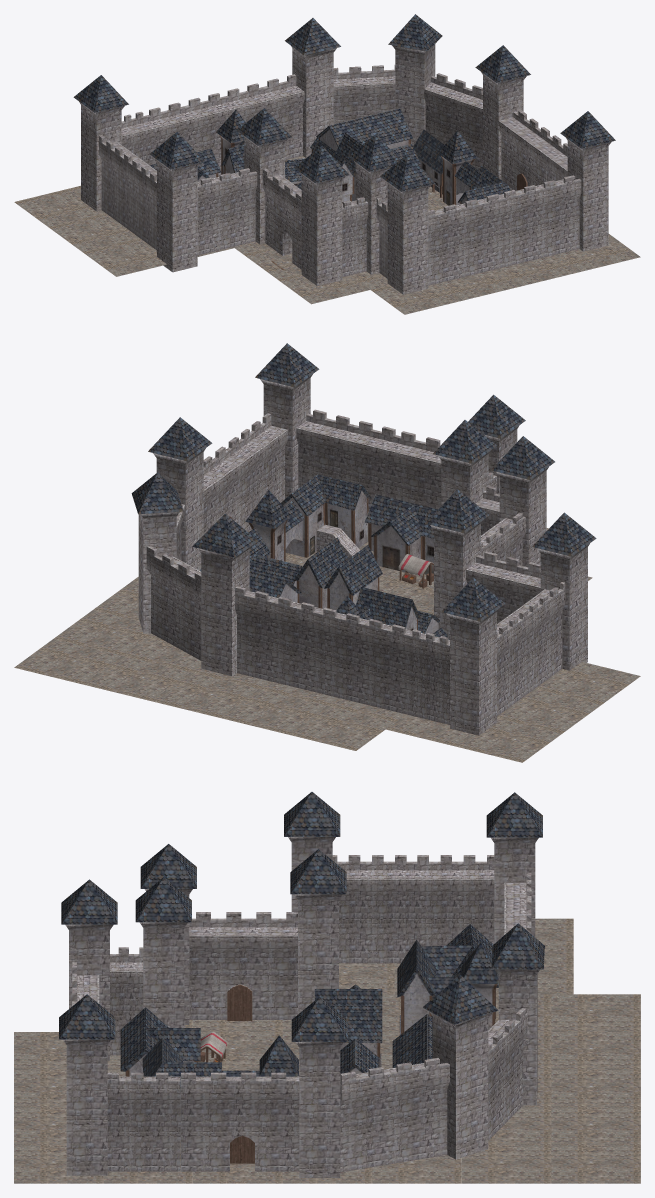
The model's file is medieval_town.glb.
3 views of the same model, one above another, from view 1: azimuth 30°, elevation 25°; view 2: azimuth 150°, elevation 25°; view 3: azimuth 270°, elevation 25° (orthographic). The views are drawn at different scales.
Visible parts, largest first — view 1: obj10, obj1, tower, gate, house8, house3, house2, house4, wall, house6, house5, houseside3; view 2: obj10, obj1, tower, house4, house7, gate, wall, house6, house5, house3, house8, house1 (+2 smaller); view 3: obj10, obj1, gate, tower, wall, house7, house4, house5, house8, house3, house6, house1 (+1 smaller).
Boxes of the visible parts, box(x1,y1,x2,y2) form: obj10: box(73, 14, 615, 294); obj1: box(14, 156, 640, 314); tower: box(475, 45, 530, 179); gate: box(497, 110, 561, 190); house8: box(316, 108, 412, 151); house3: box(438, 130, 477, 205); house2: box(413, 129, 444, 197); house4: box(458, 165, 512, 204); wall: box(543, 143, 567, 181); house6: box(312, 139, 355, 203); house5: box(336, 133, 361, 201); houseside3: box(454, 161, 477, 194); obj10: box(131, 343, 596, 735); obj1: box(14, 528, 640, 762); tower: box(148, 417, 212, 570); house4: box(281, 474, 371, 557); house7: box(364, 494, 437, 572); gate: box(202, 437, 255, 534); wall: box(239, 413, 288, 510); house6: box(324, 545, 382, 610); house5: box(293, 537, 348, 608); house3: box(245, 490, 291, 561); house8: box(200, 568, 301, 602); house1: box(249, 554, 302, 587); obj10: box(59, 792, 544, 1175); obj1: box(14, 918, 640, 1183); gate: box(181, 1072, 299, 1171); tower: box(291, 997, 347, 1177); wall: box(107, 1072, 180, 1171); house7: box(120, 1007, 200, 1076); house4: box(142, 1037, 221, 1139); house5: box(331, 1005, 382, 1066); house8: box(392, 1014, 432, 1067); house3: box(259, 1035, 298, 1076); house6: box(314, 989, 382, 1066); house1: box(340, 1038, 379, 1073).
Bounding box in the file's own units: 56 × 17.63 × 56.
Materials: 1 (1 with a texture image).
